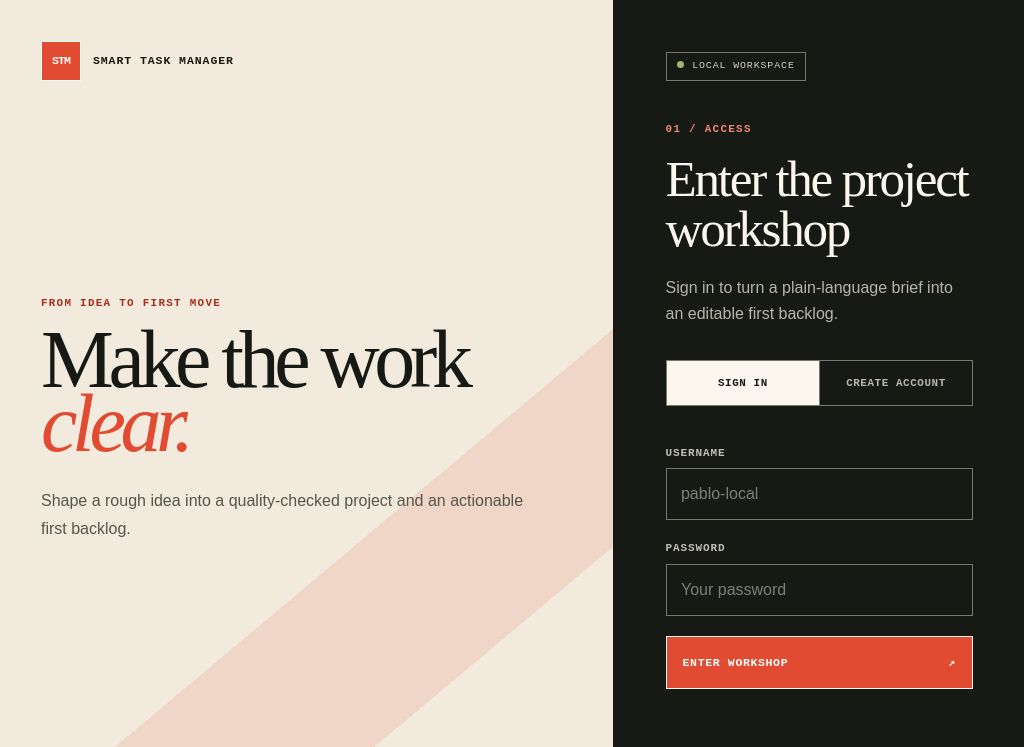
Test case: AI project workshop › creates an account from the access panel and opens an authenticated session
Click the button "Create account" at (896, 383), box left=819, top=361, right=972, bottom=406
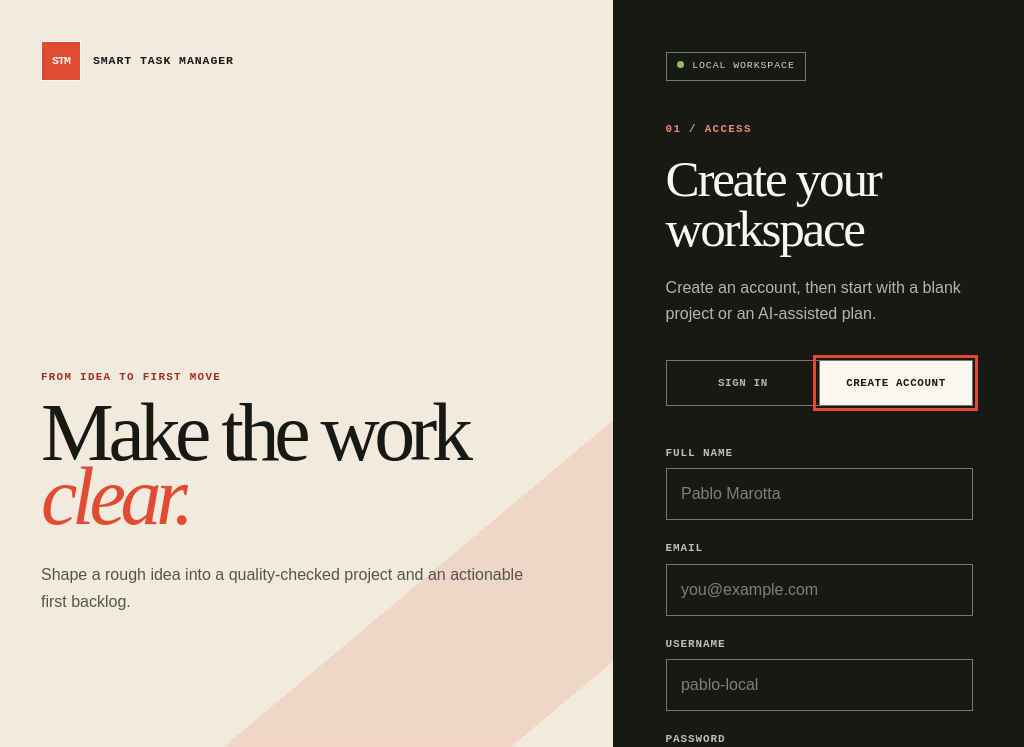
Type "New Planner" into the field labelled "Full name" at (819, 494), box left=666, top=468, right=973, bottom=520
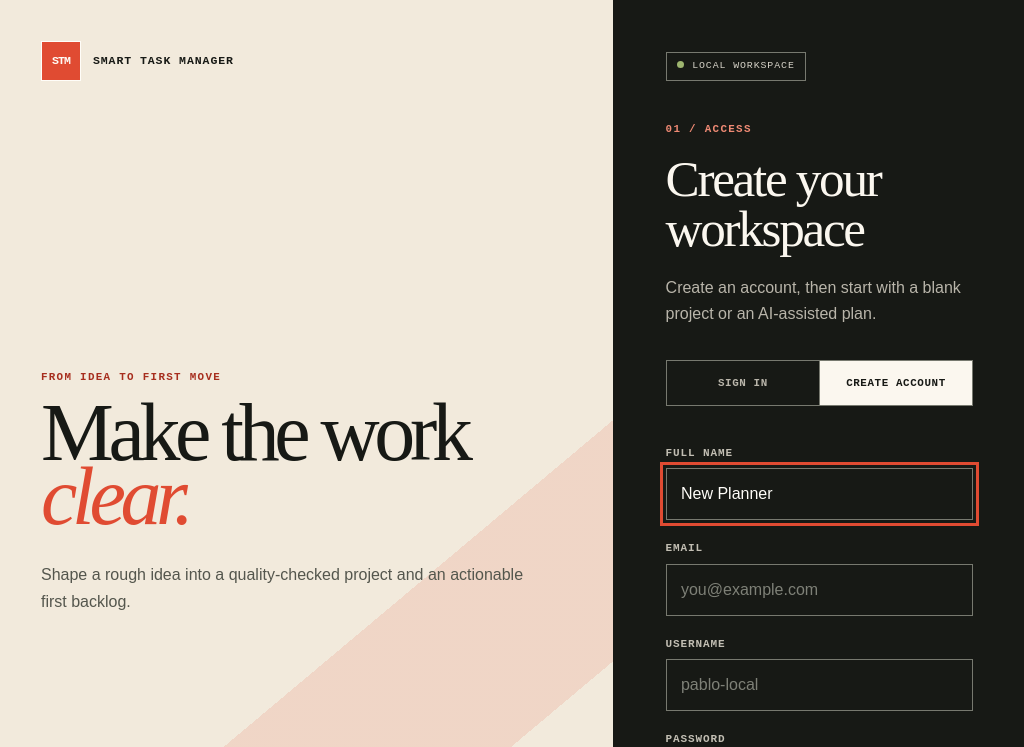
Type "new@example.com" into the field labelled "Email" at (819, 590), box left=666, top=564, right=973, bottom=616
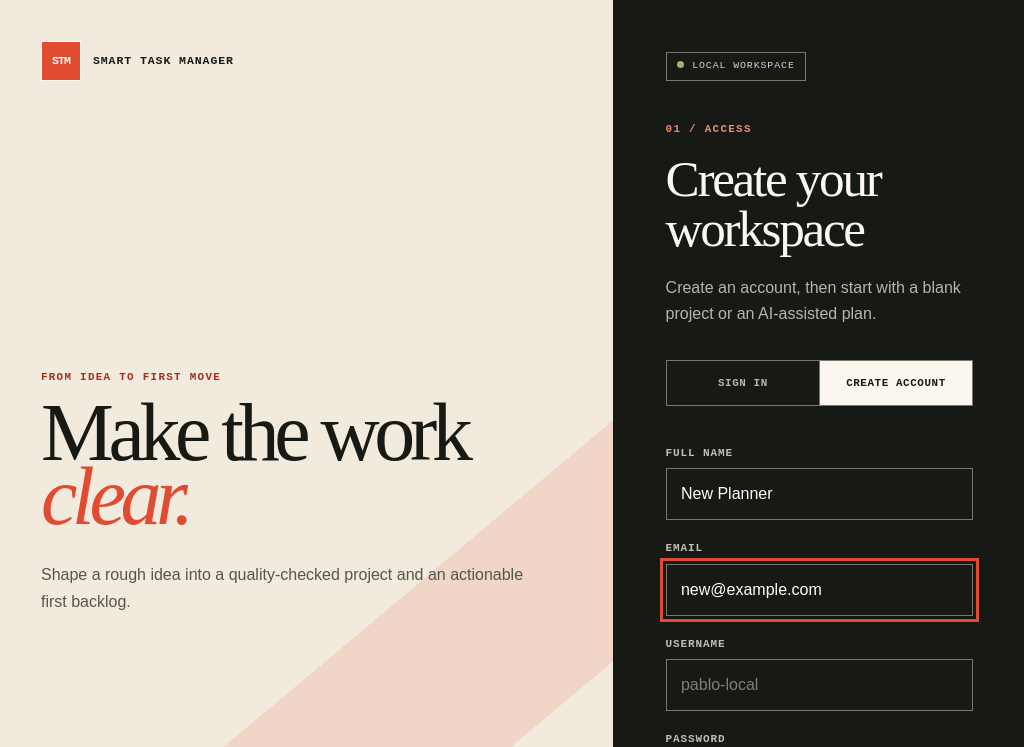
Type "new-planner" into the field labelled "Username" at (819, 685), box left=666, top=659, right=973, bottom=711
(page scrolled)
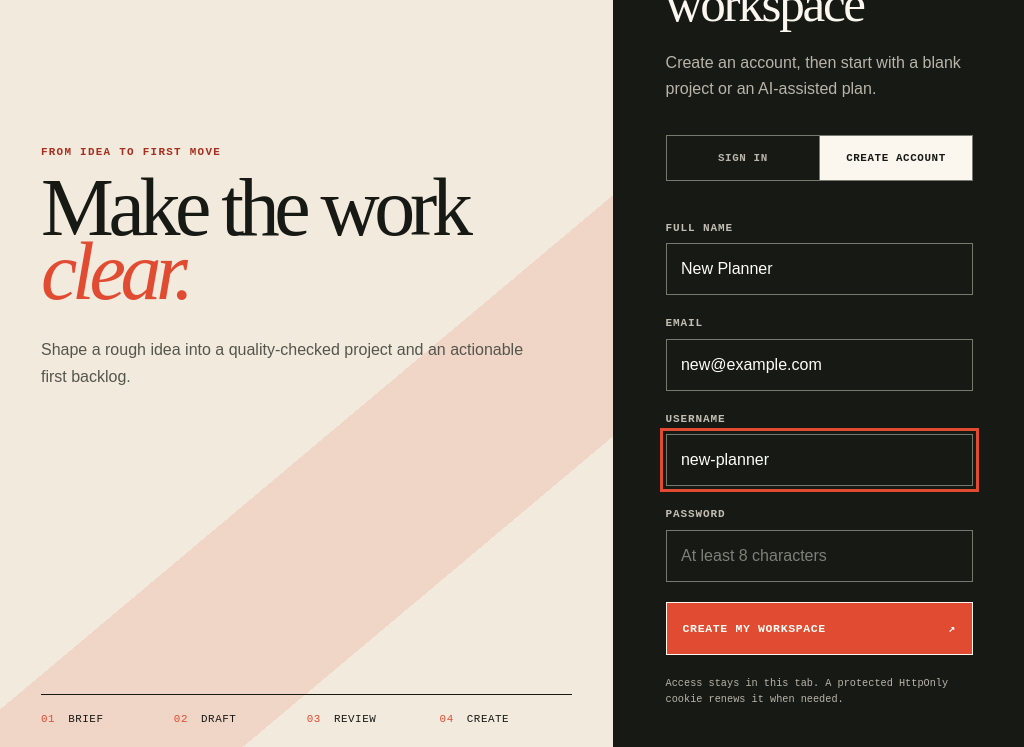
Type "password123" into the password field labelled "Password" at (819, 556), box left=666, top=530, right=973, bottom=582
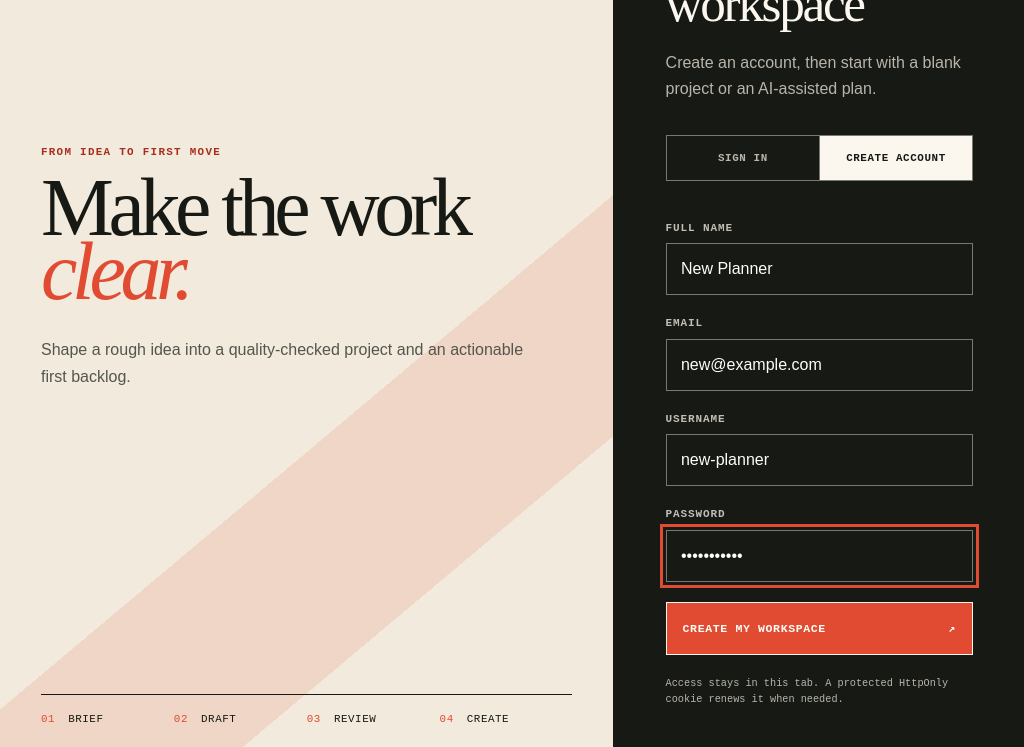
Click the button "Create my workspace ↗" at (819, 629), box left=666, top=602, right=973, bottom=656
(page scrolled)
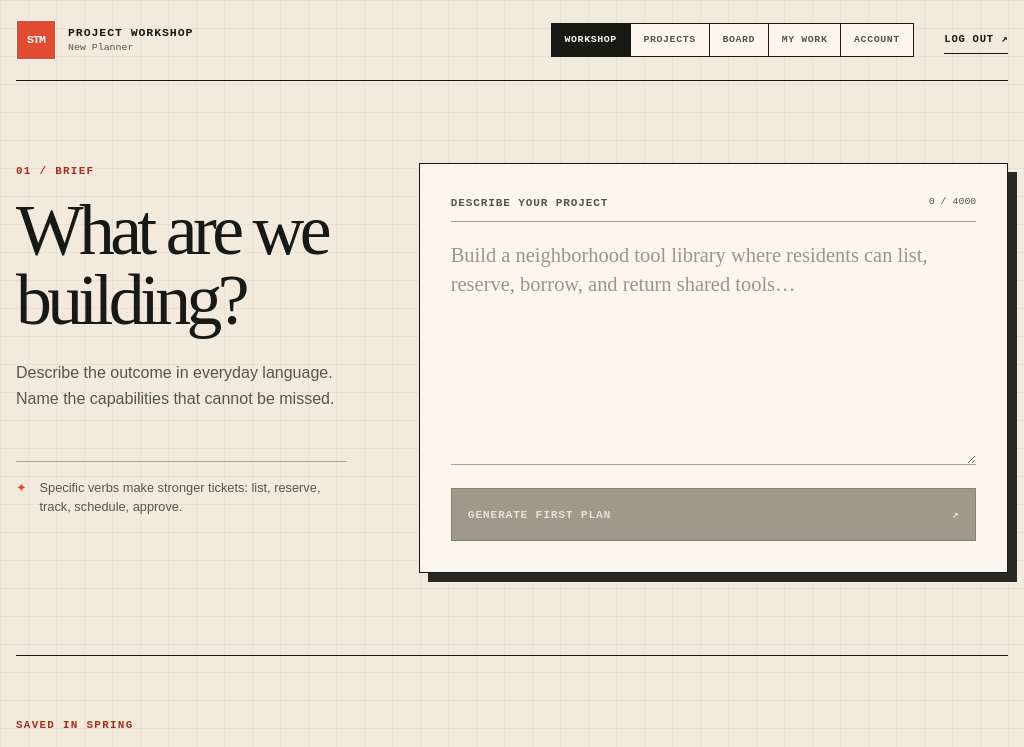
Expected: the text "New Planner" is shown, left=68, top=42, right=133, bottom=53
